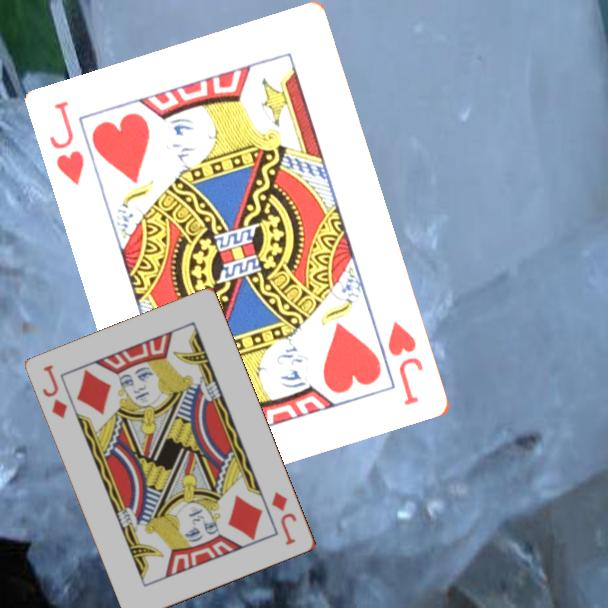d11: (39, 361, 71, 422), (268, 488, 300, 548)
h11: (385, 318, 427, 409), (46, 98, 88, 189)
